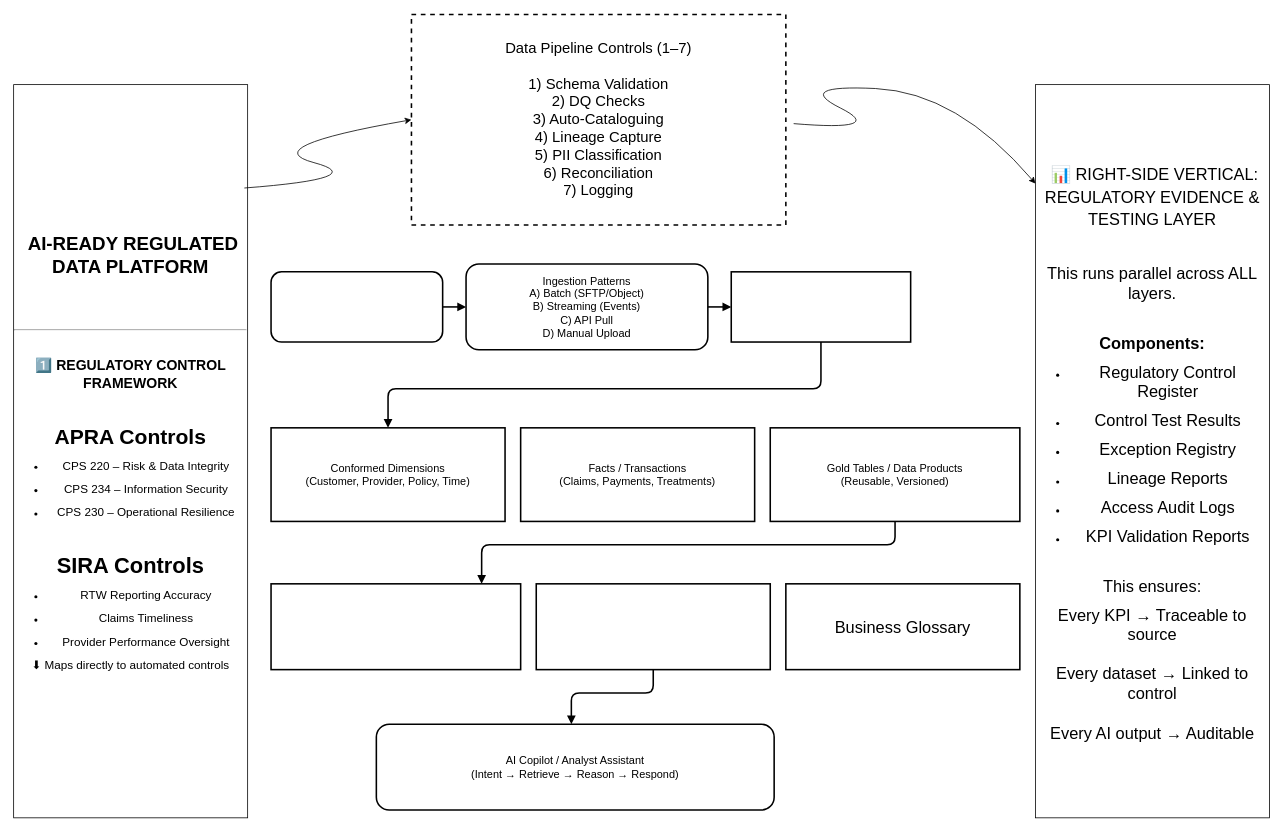
This 1283x831 diagram has some shape labels left out. Each missing label, with the box of its shape:
Certified Semantic Views (vw_kpi_*, vw_mart_*): (270, 583, 521, 670)
KPI Logic (RTW Rate, Duration, Cost) Centralized + Reusable: (535, 583, 771, 670)
Landing Zone (Raw, Immutable): (730, 271, 911, 342)
Source Systems (Claims, CRM, Provider, Files, APIs): (270, 271, 443, 342)
